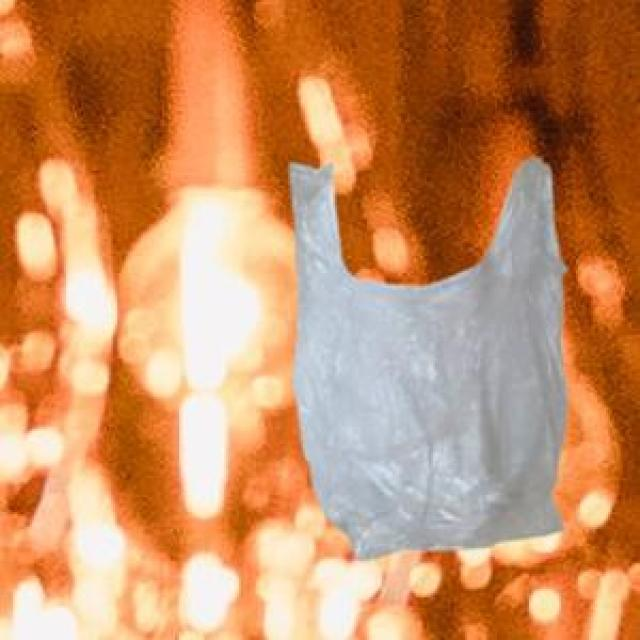plastic: (269, 139, 593, 568)
